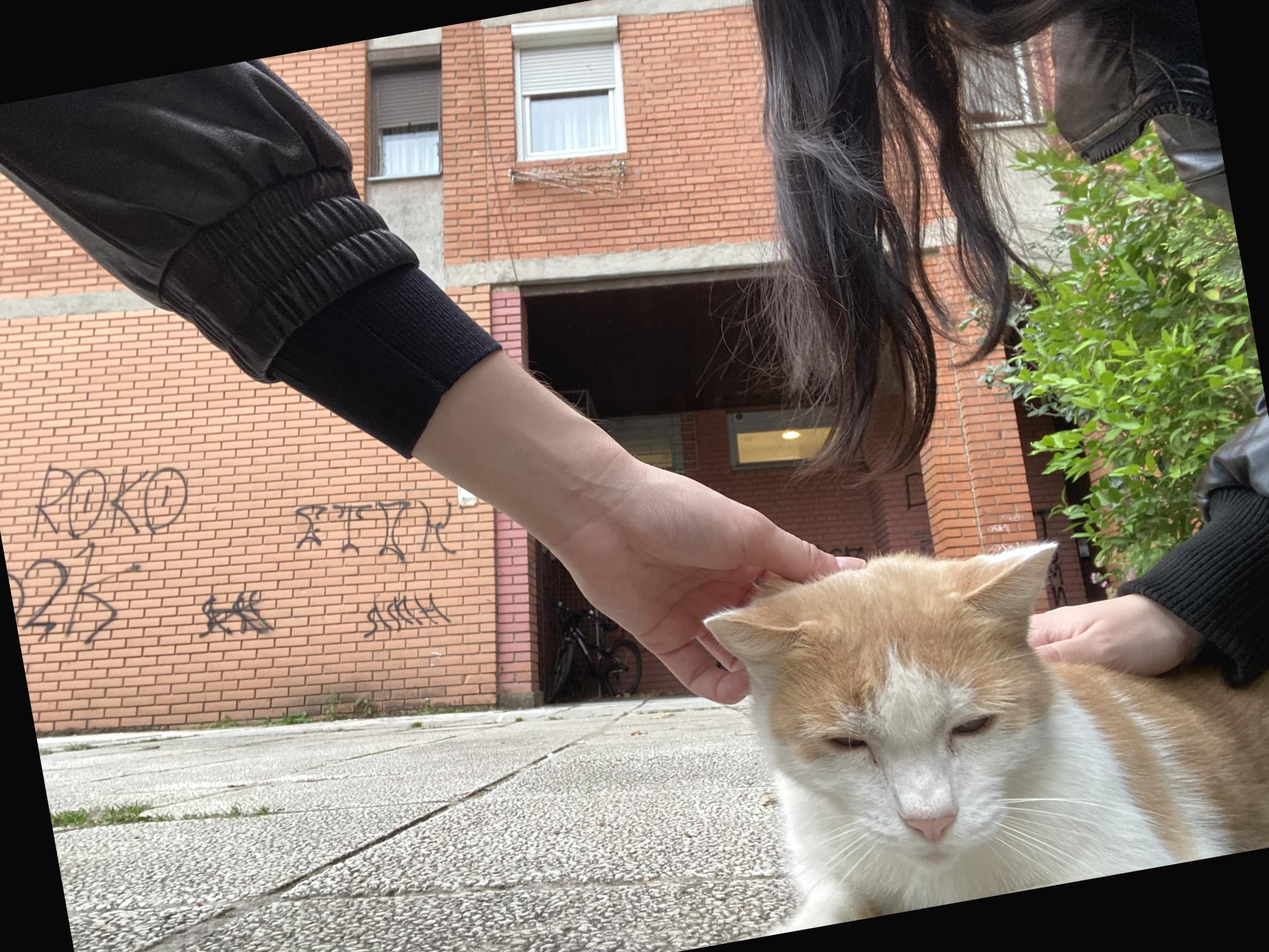macka: (696, 485, 1269, 937)
